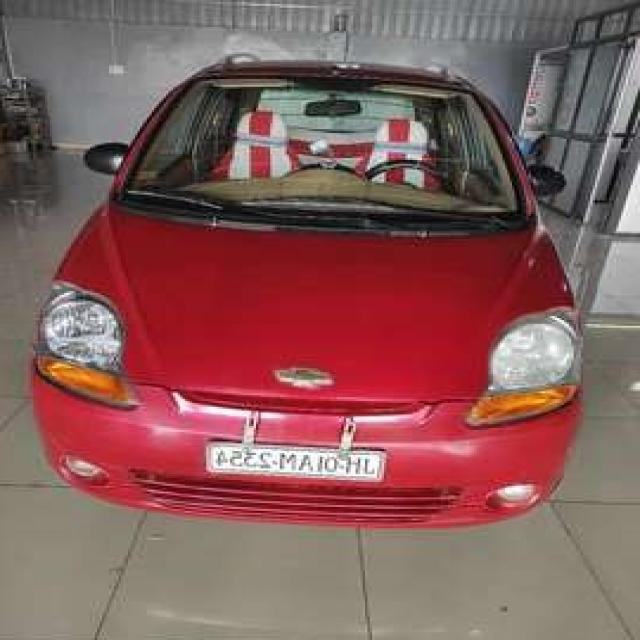license_plate: (203, 439, 390, 484)
